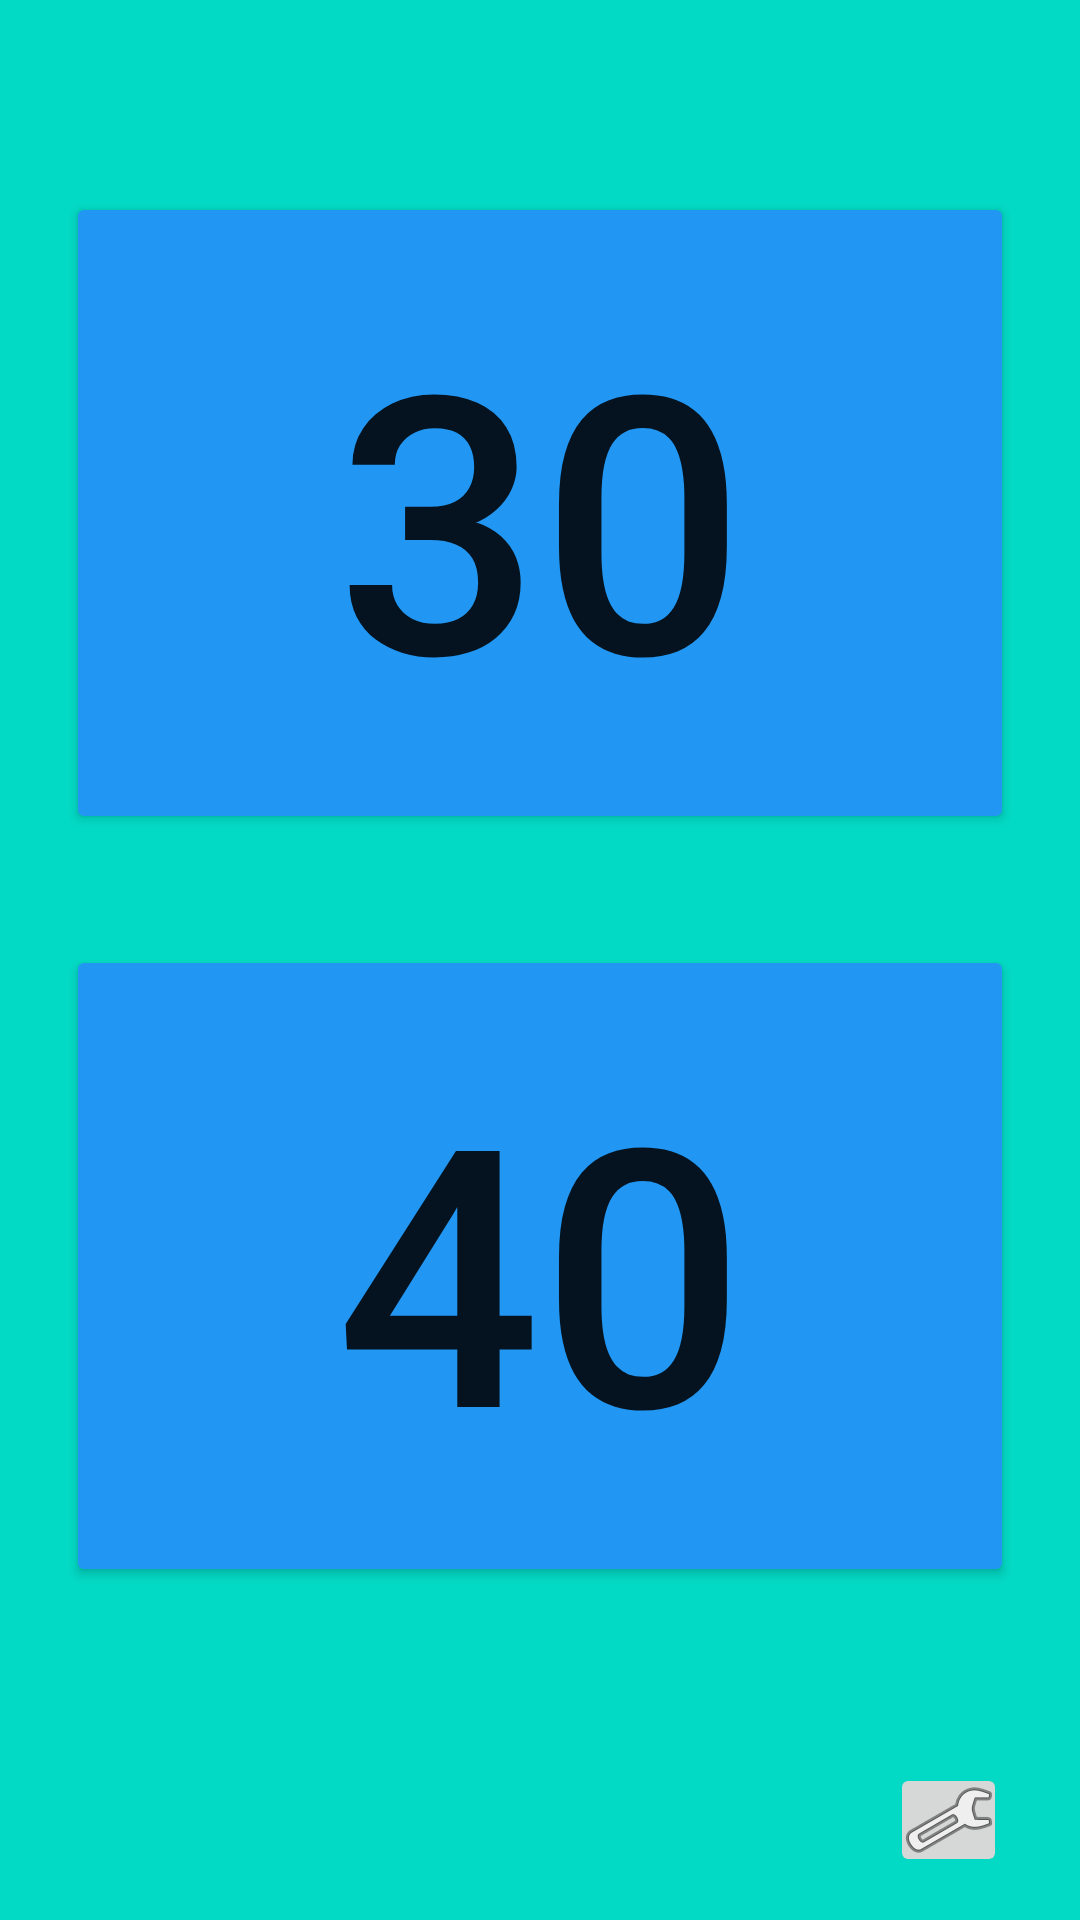

Screen size 1080px x 1920px. Icon name, then its center in pixels as (x,y):
manage: (948,1820)
